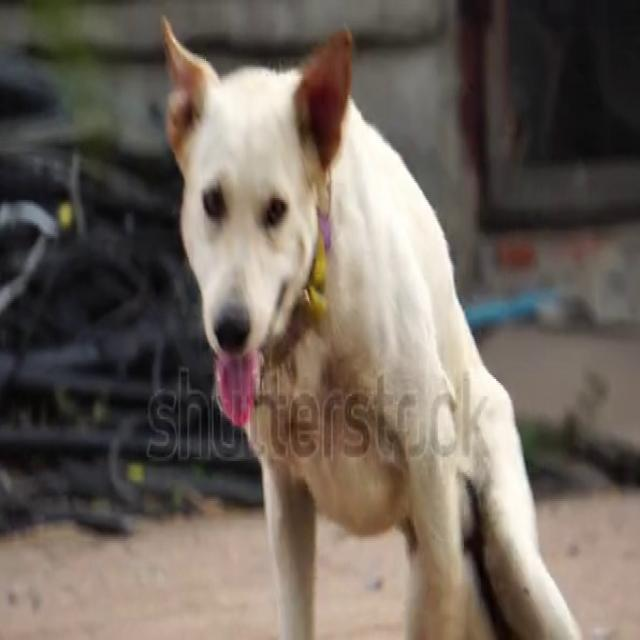normal_animals: (155, 13, 611, 638)
